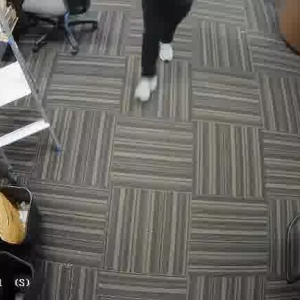person: (127, 0, 191, 106)
